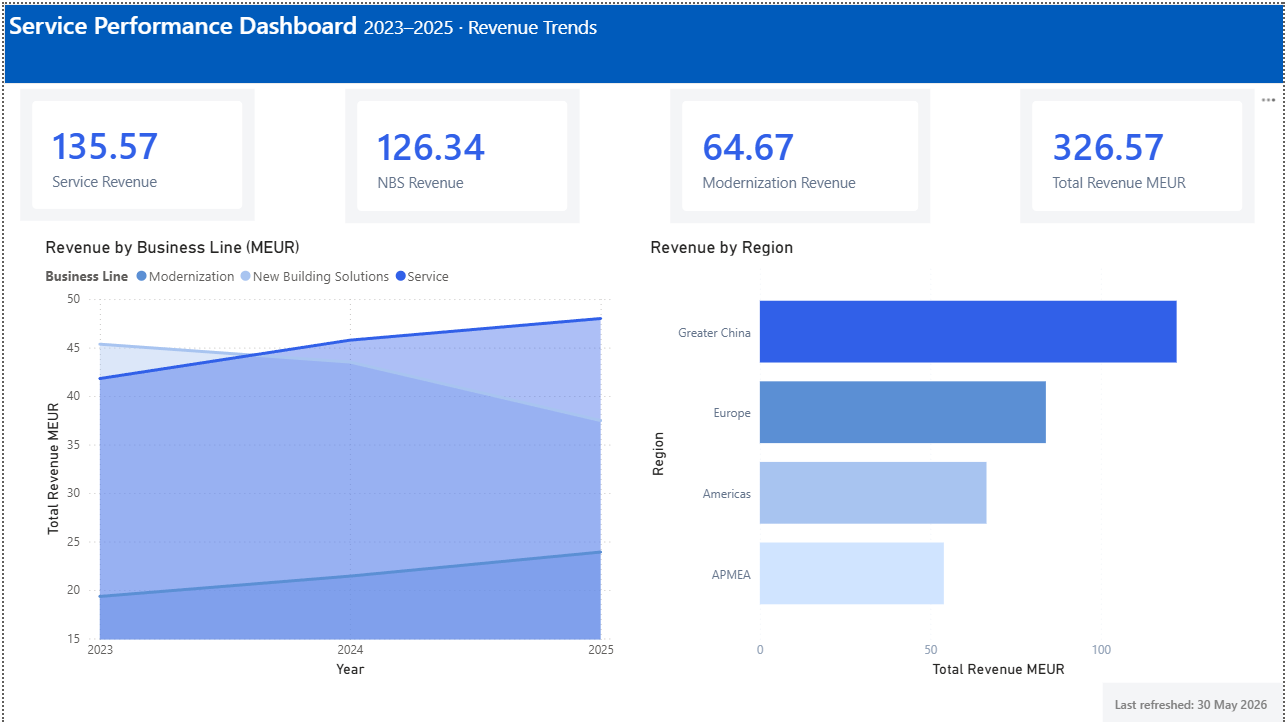

Layout of this report page (visuals, bound fields, positions):
{"tool":"powerbi","page":{"name":"Revenue Trends","canvas":[1280,720],"ordinal":5},"visuals":[{"type":"textbox","box":[0,0,1280,80],"z":0},{"type":"cardVisual","fields":{"Data":["_Measures.Service Revenue"]},"box":[15.7,80,234.3,142.9],"z":1000},{"type":"cardVisual","fields":{"Data":["_Measures.NBS Revenue"]},"box":[341.4,80,234.3,144.3],"z":2000},{"type":"cardVisual","fields":{"Data":["_Measures.Modernization Revenue"]},"box":[665.7,80,260,144.3],"z":3000},{"type":"cardVisual","fields":{"Data":["_Measures.Total Revenue MEUR"]},"box":[1015.7,80,234.3,144.3],"z":4000},{"type":"areaChart","title":"Revenue by Business Line (MEUR)","fields":{"Category":["monthly_revenue.month_date.Variation.Date Hierarchy.Year"],"Y":["_Measures.Total Revenue MEUR"],"Series":["monthly_revenue.business_line"]},"box":[35.7,232.9,578.6,445.7],"z":5000},{"type":"clusteredBarChart","title":"Revenue by Region","fields":{"Category":["monthly_revenue.region"],"Y":["_Measures.Total Revenue MEUR"]},"box":[641.4,232.9,607.1,445.7],"z":6000},{"type":"cardVisual","fields":{"Data":["New Measure.Last Refreshed"]},"box":[1098.3,678.3,181.7,41.7],"z":6001}]}

Visuals, with their boxes in screenshot pixels (x1, y1, x2, y2), scaled from the page's 1280x720 canvas onto the 1287x722 screenshot:
textbox: detection(0, 0, 1286, 80)
cardVisual - _Measures.Service Revenue: detection(16, 80, 251, 224)
cardVisual - _Measures.NBS Revenue: detection(343, 80, 579, 225)
cardVisual - _Measures.Modernization Revenue: detection(669, 80, 931, 225)
cardVisual - _Measures.Total Revenue MEUR: detection(1021, 80, 1257, 225)
"Revenue by Business Line (MEUR)" areaChart: detection(36, 234, 618, 680)
"Revenue by Region" clusteredBarChart: detection(645, 234, 1255, 680)
cardVisual - New Measure.Last Refreshed: detection(1104, 680, 1286, 721)
